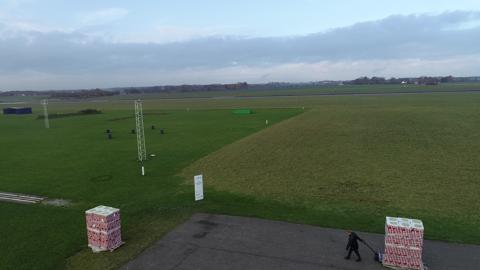RockwoolPallet: (86, 202, 123, 248)
